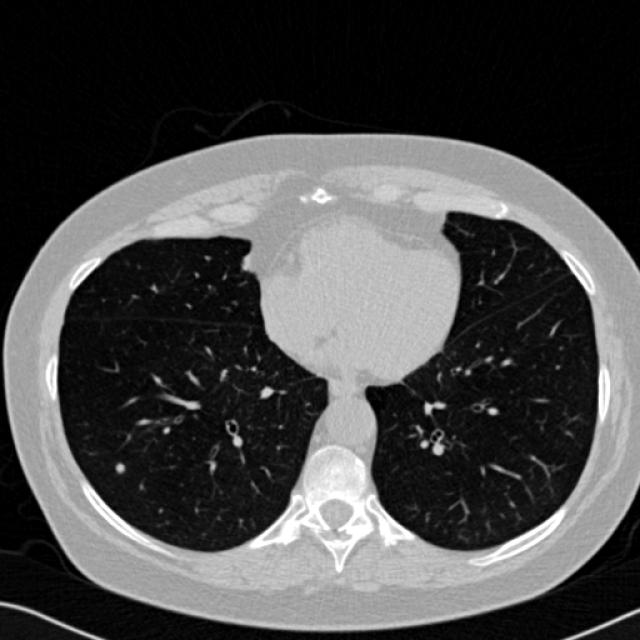nodule: (106, 454, 132, 478)
